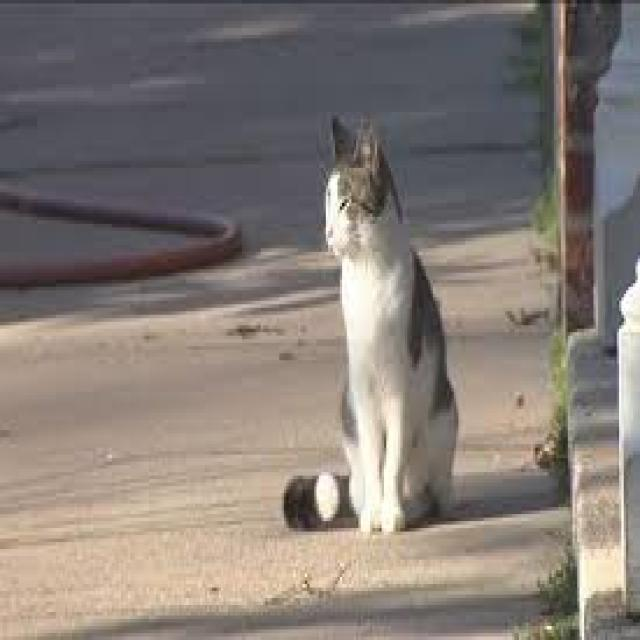cat: (284, 116, 457, 532)
